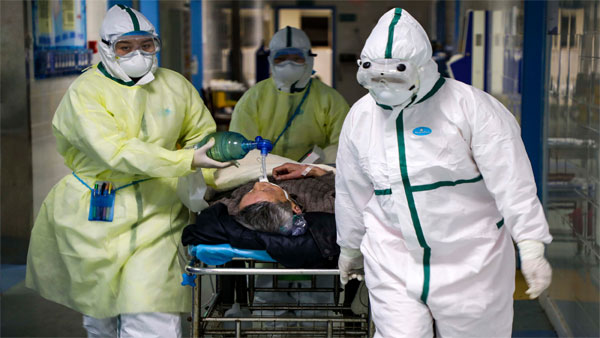Coverall: (335, 8, 552, 337), (25, 6, 216, 336), (229, 25, 348, 164)
Gloves: (517, 239, 554, 299), (194, 137, 239, 170), (338, 247, 366, 284)
Goggles: (356, 57, 420, 92), (110, 34, 161, 57), (271, 48, 307, 68)
with_mask: (118, 50, 154, 73), (275, 61, 307, 86), (371, 86, 412, 105)
